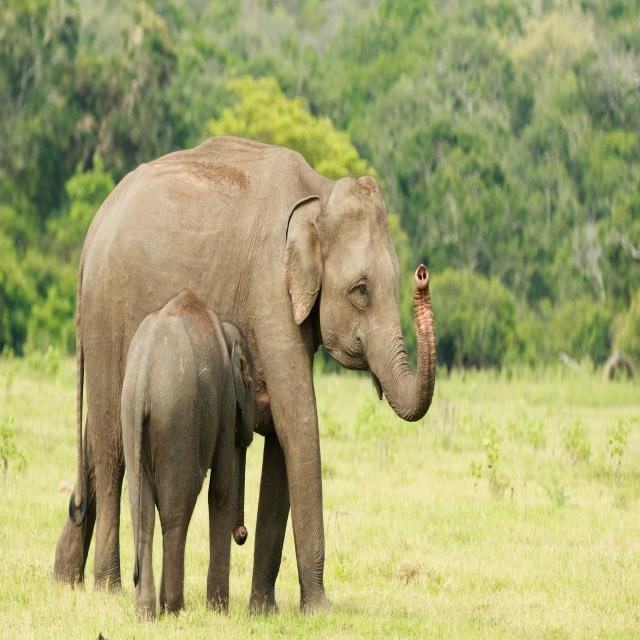Elephant: (61, 123, 443, 601), (119, 279, 268, 640)
